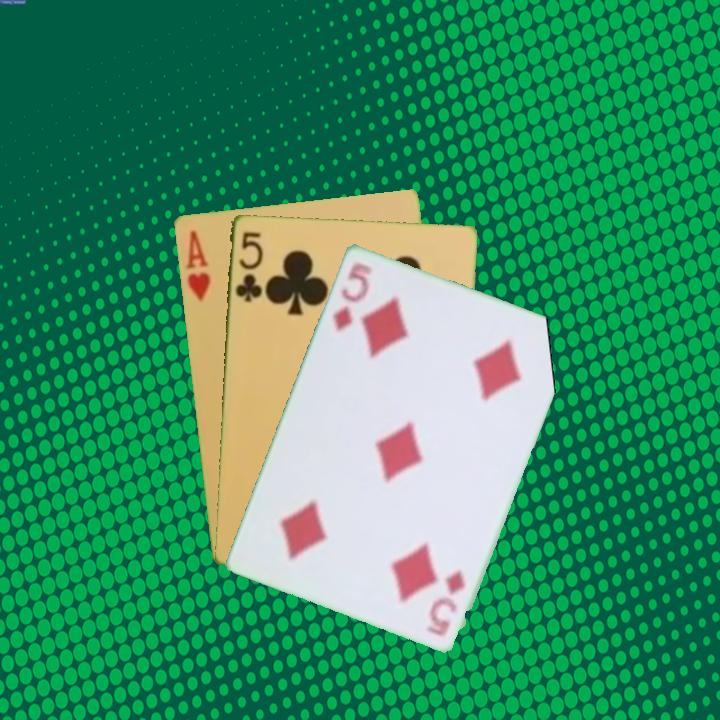5c: (232, 227, 266, 304)
5d: (328, 258, 375, 334), (427, 565, 468, 631)
Ah: (181, 227, 213, 304)
